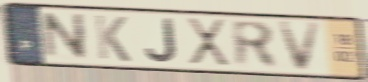J: (144, 17, 180, 65)
K: (92, 12, 133, 64)
N: (41, 11, 89, 62)
R: (228, 18, 282, 71)
V: (276, 20, 325, 74)
X: (184, 15, 233, 70)
